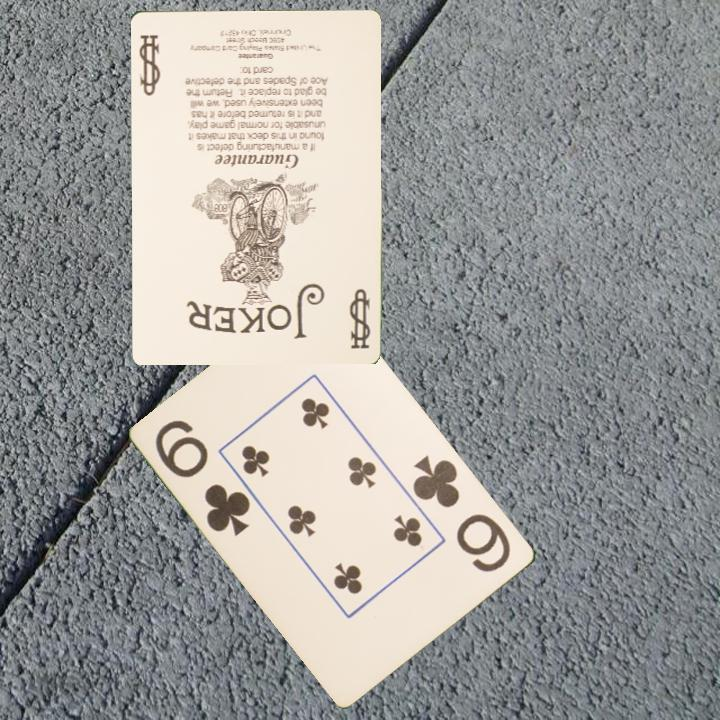6c: (409, 451, 515, 576), (151, 416, 255, 539)
JK: (134, 30, 162, 98), (345, 285, 373, 352)
